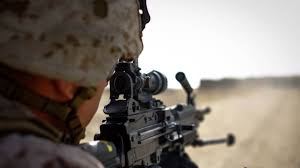gun: (73, 61, 210, 165)
